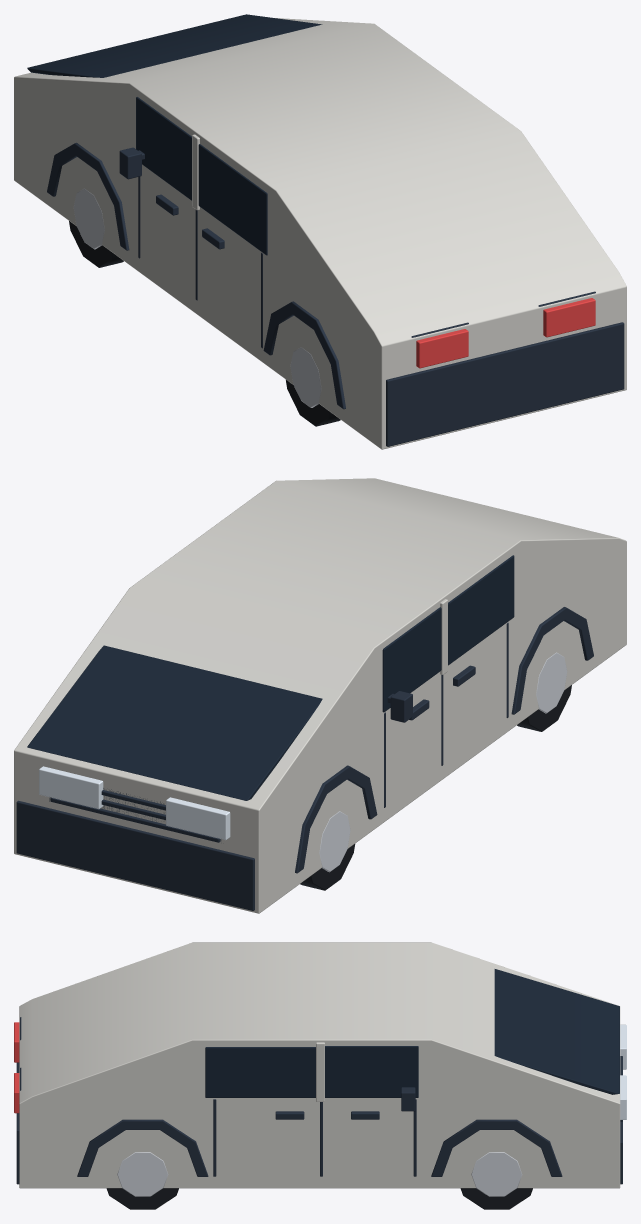
File: veh_car_sedan_01.glb
The picture shows the model from 3 angles, top to bottom: view 1: azimuth 30°, elevation 25°; view 2: azimuth 150°, elevation 25°; view 3: azimuth 270°, elevation 25°; orthographic projection. The views are drawn at different scales.
Visible parts, largest first — view 1: VEH_CAR_SEDAN_01_ROOT; view 2: VEH_CAR_SEDAN_01_ROOT; view 3: VEH_CAR_SEDAN_01_ROOT.
Part boxes in pixels (<box>): VEH_CAR_SEDAN_01_ROOT: <box>14,14,626,449</box>; VEH_CAR_SEDAN_01_ROOT: <box>14,478,626,913</box>; VEH_CAR_SEDAN_01_ROOT: <box>14,942,626,1209</box>.
Size of what is drawn, in the model's own units: 2.07 by 1.44 by 4.71.
